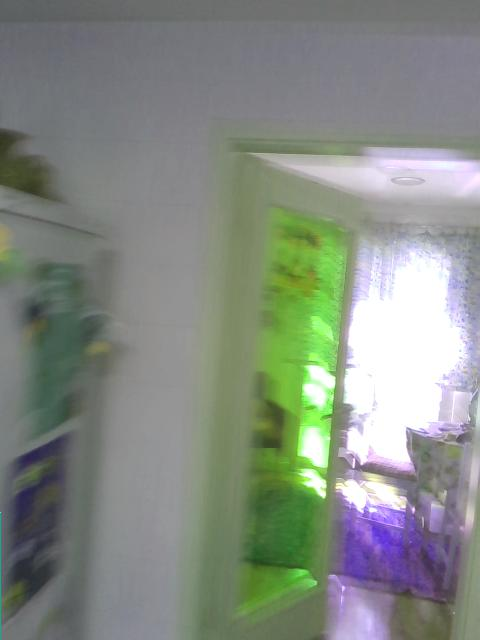semi_door: (171, 114, 479, 639)
